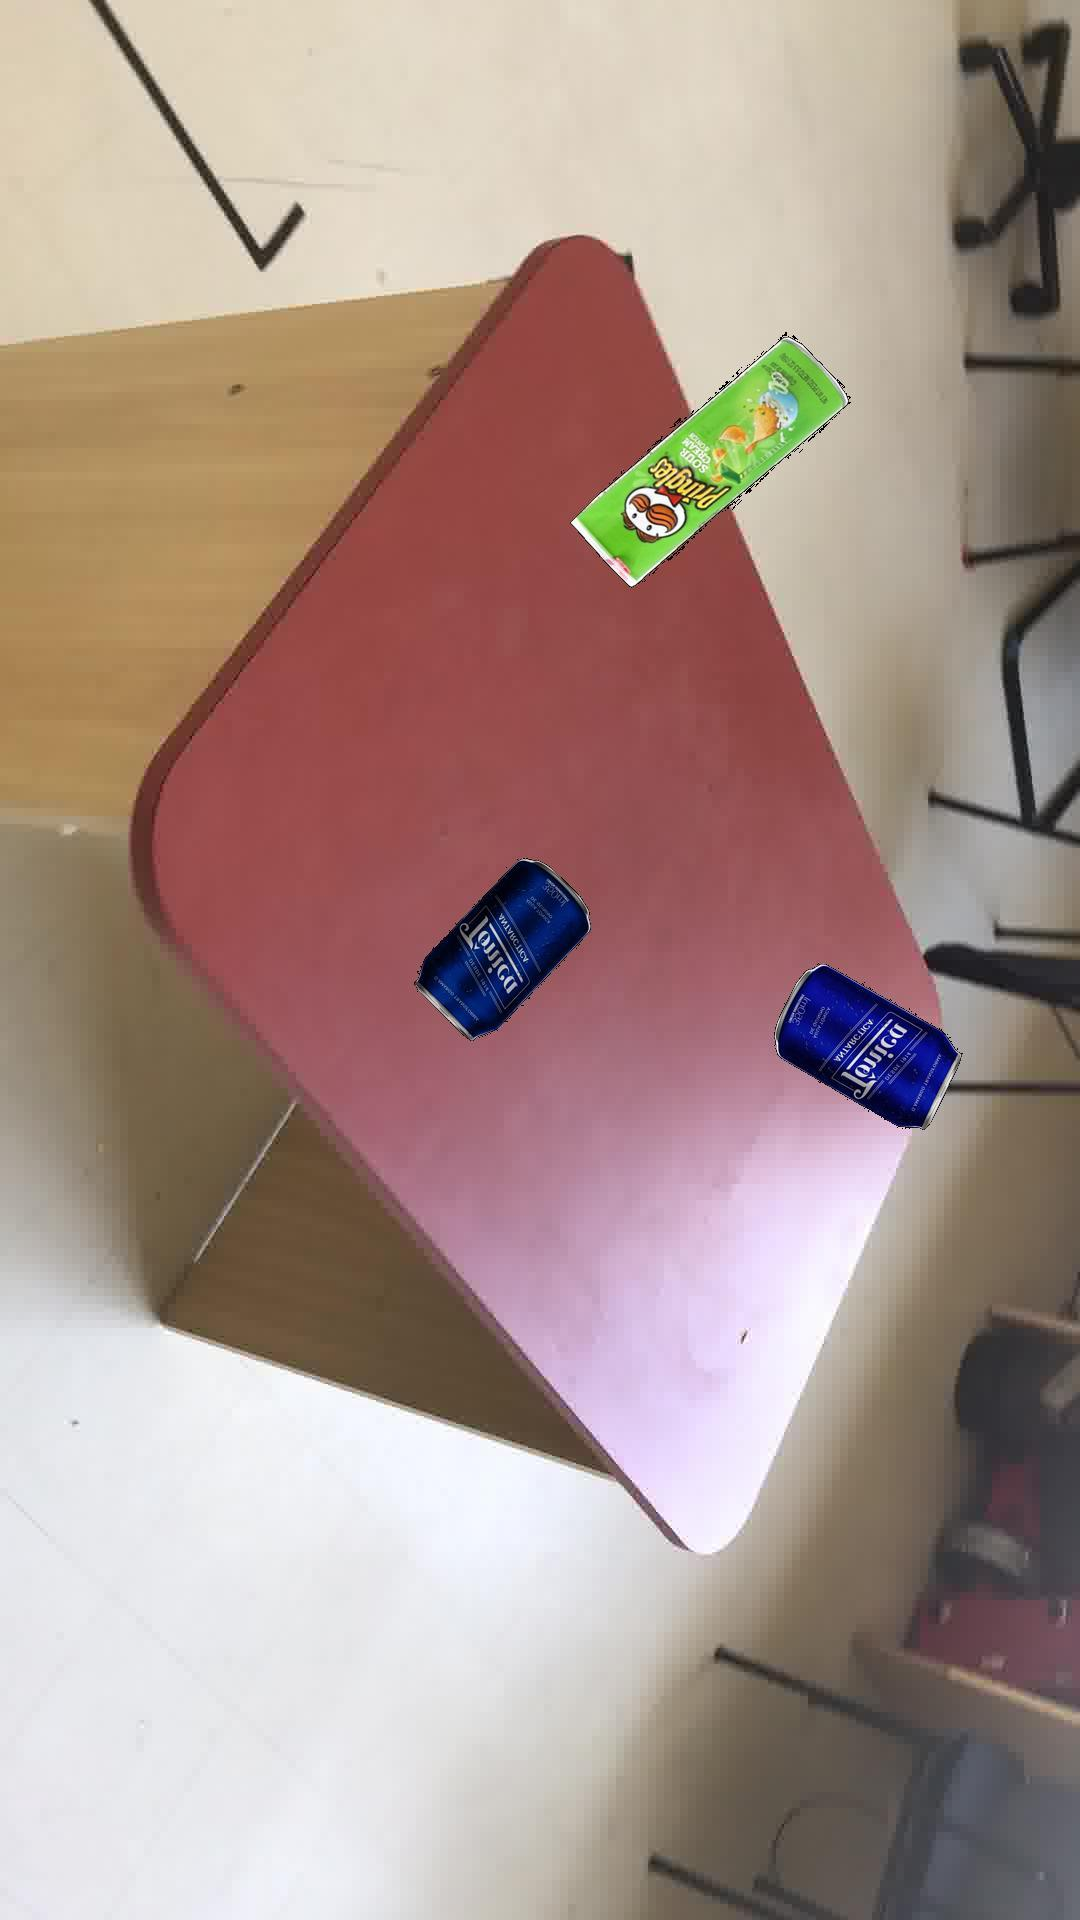pringles: (568, 334, 849, 587)
tonic: (413, 857, 589, 1039), (773, 963, 961, 1129)
